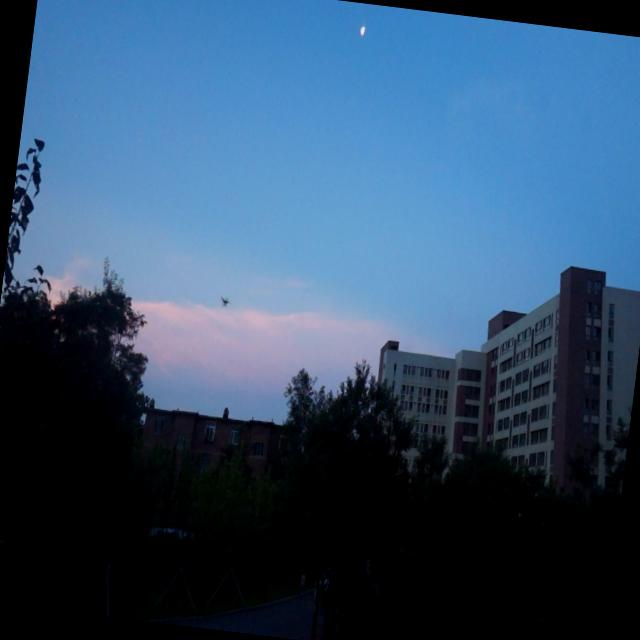drone: (218, 292, 232, 310)
